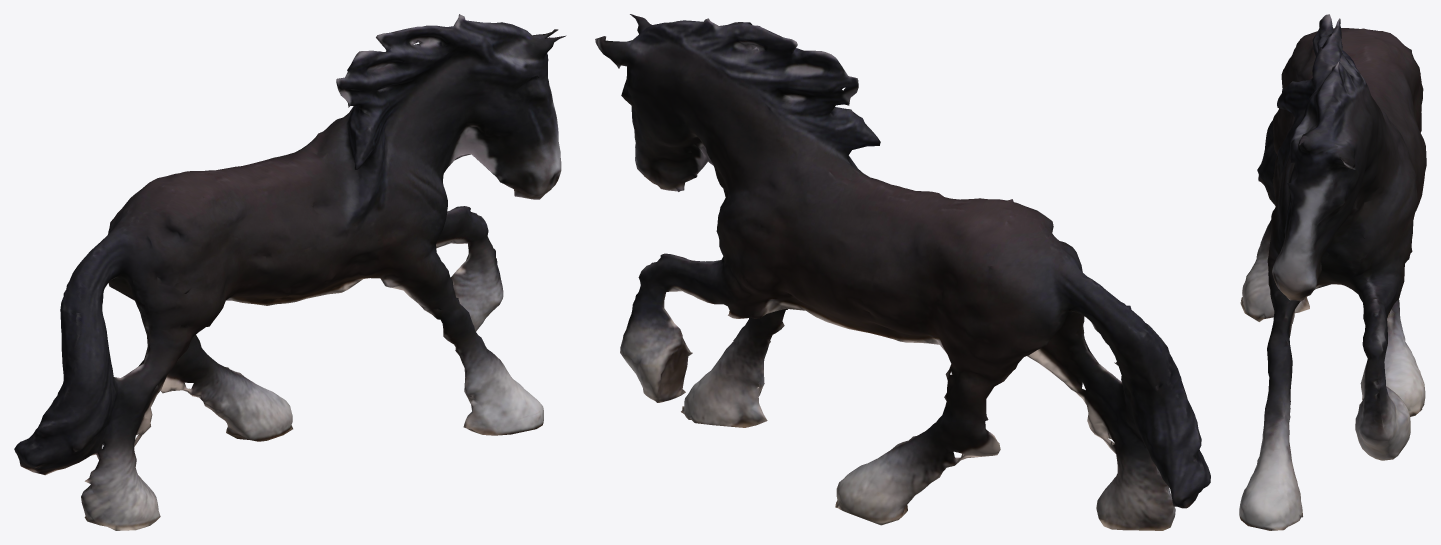
File: b_horse.glb
3 renders of one model, left to right at view 1: azimuth 30°, elevation 25°; view 2: azimuth 150°, elevation 25°; view 3: azimuth 270°, elevation 25°, orthographic. The views are drawn at different scales.
Bounding box in the file's own units: 1000 × 690 × 263.
1 material, 1 textured.
